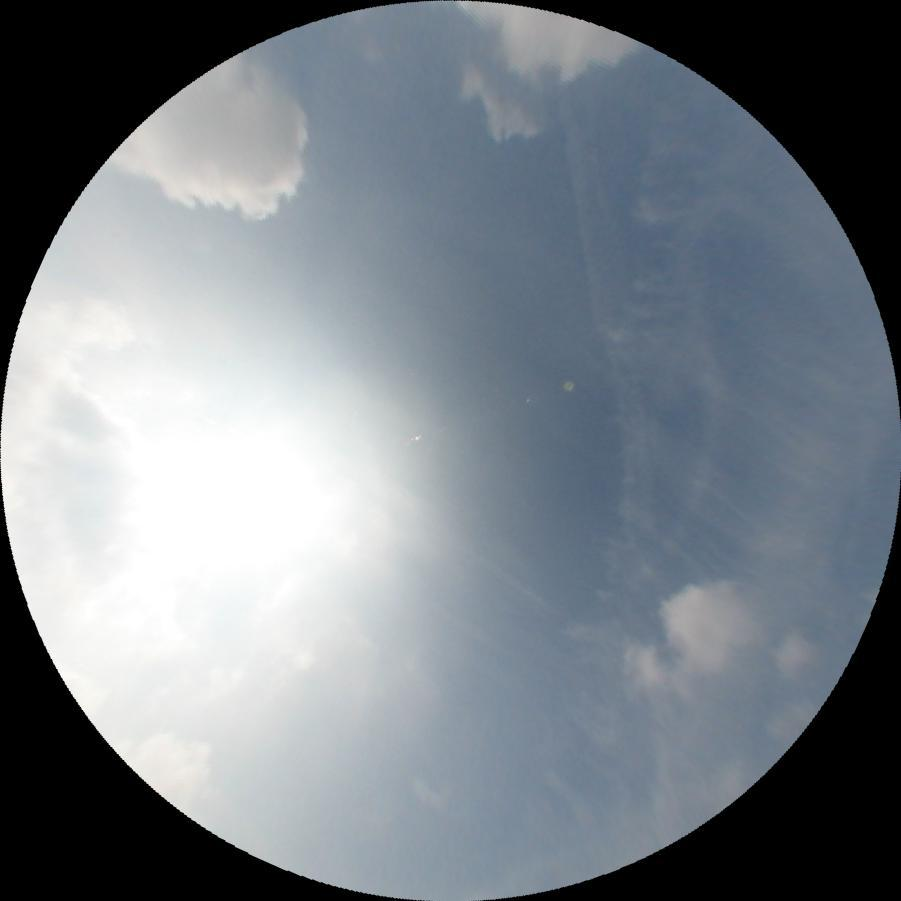contrail veryold: (556, 71, 697, 847)
sun: (162, 396, 377, 603)
